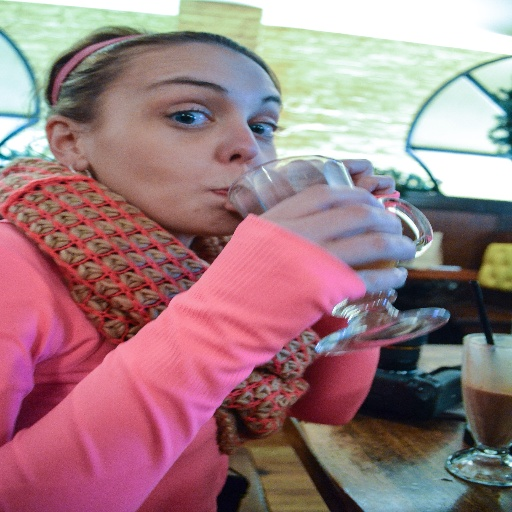hand: (248, 178, 423, 305), (263, 156, 399, 208)
